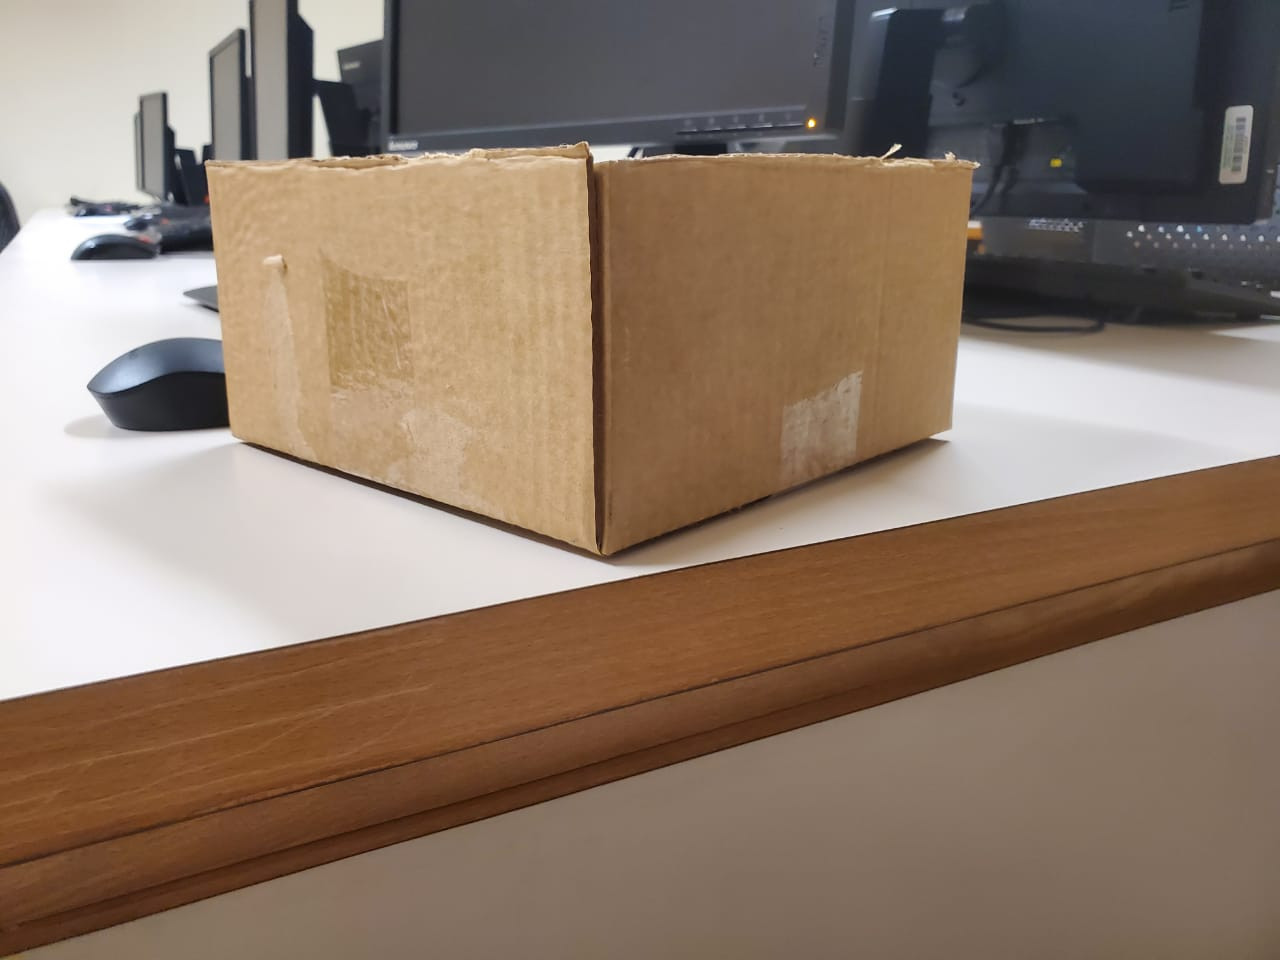CBox: (194, 133, 997, 565)
